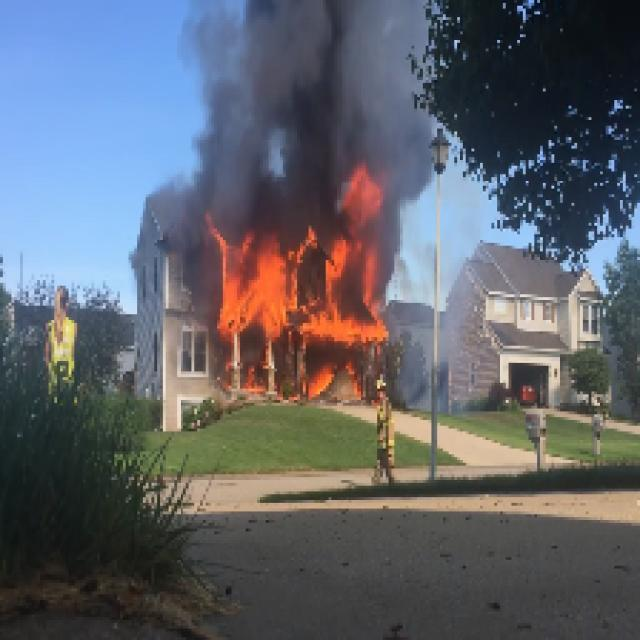Fire: (214, 237, 337, 337), (340, 166, 380, 340)
Smoke: (166, 3, 334, 206), (337, 3, 429, 160), (388, 174, 432, 360)
